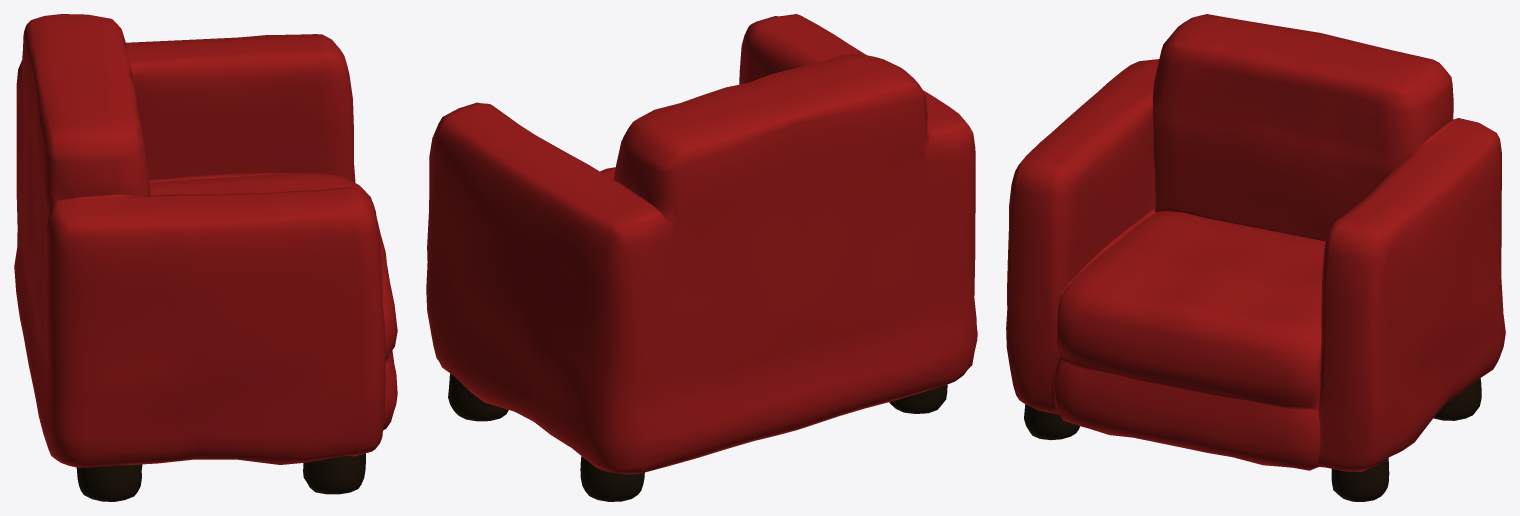
The model's file is chair 2.glb.
3 renders of one model, left to right at view 1: azimuth 30°, elevation 25°; view 2: azimuth 150°, elevation 25°; view 3: azimuth 270°, elevation 25°, orthographic. The views are drawn at different scales.
Parts seen in each view (by area): view 1: node_id30; view 2: node_id30; view 3: node_id30.
Boxes of the visible parts, box(x1,y1,x2,y2) form: node_id30: box(14, 14, 397, 501); node_id30: box(426, 14, 977, 501); node_id30: box(1006, 14, 1505, 501).
Size of the model in its own units: 0.5348 by 0.4282 by 0.5905.
1 material, 1 textured.
